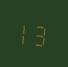one: (19, 18, 32, 46)
three: (33, 19, 46, 48)
